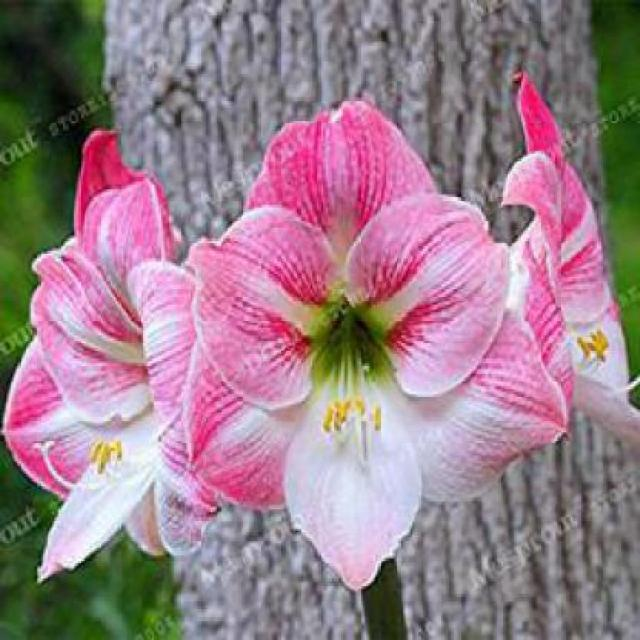Flower: (187, 99, 568, 592), (3, 128, 209, 584), (499, 72, 639, 446), (323, 394, 382, 432), (87, 437, 124, 474), (577, 328, 609, 363)
